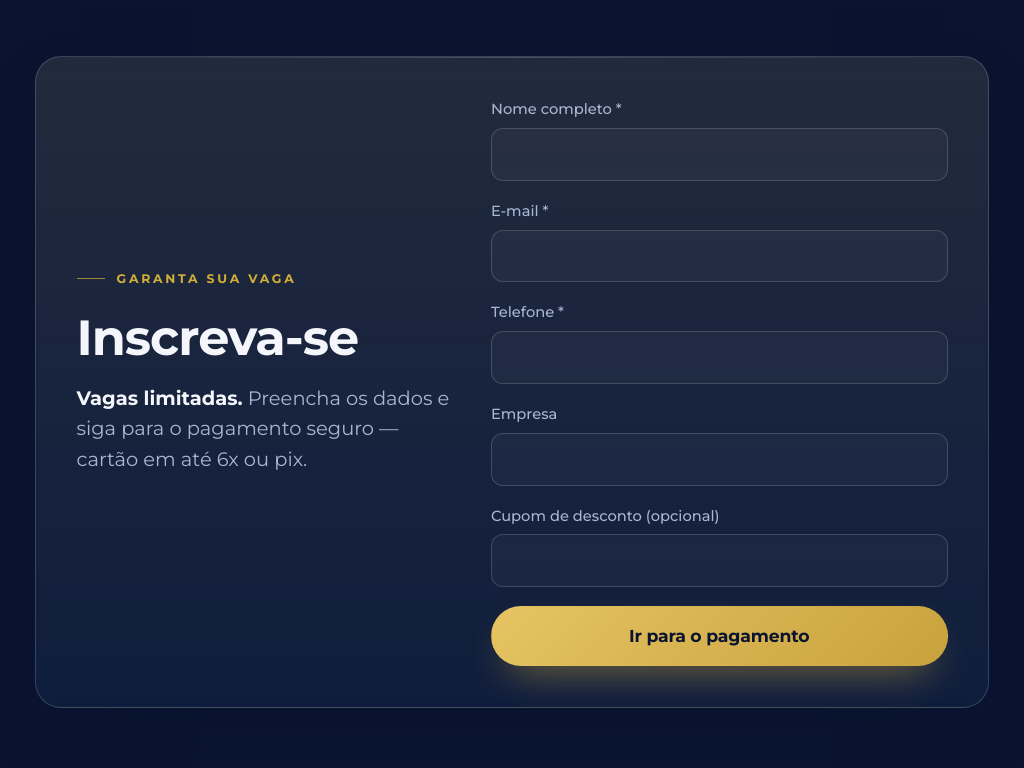
Scenario: RegistrationForm › validation messages + retained values (Req 10.3) › flags an invalid email while other fields are valid
Type "Maria Silva" into the field labelled "Nome completo *". click: (719,154)
box: x1=491 y1=128 x2=948 y2=181
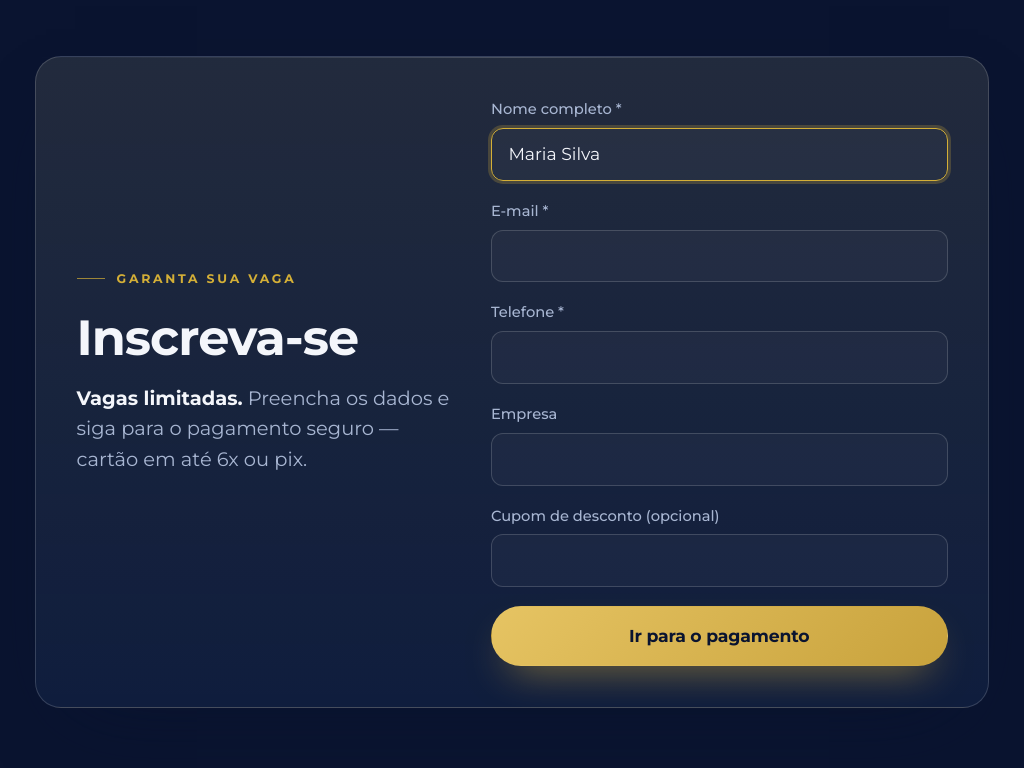
Type "not-an-email" into the field labelled "E-mail *". click: (719,256)
box: x1=491 y1=230 x2=948 y2=282
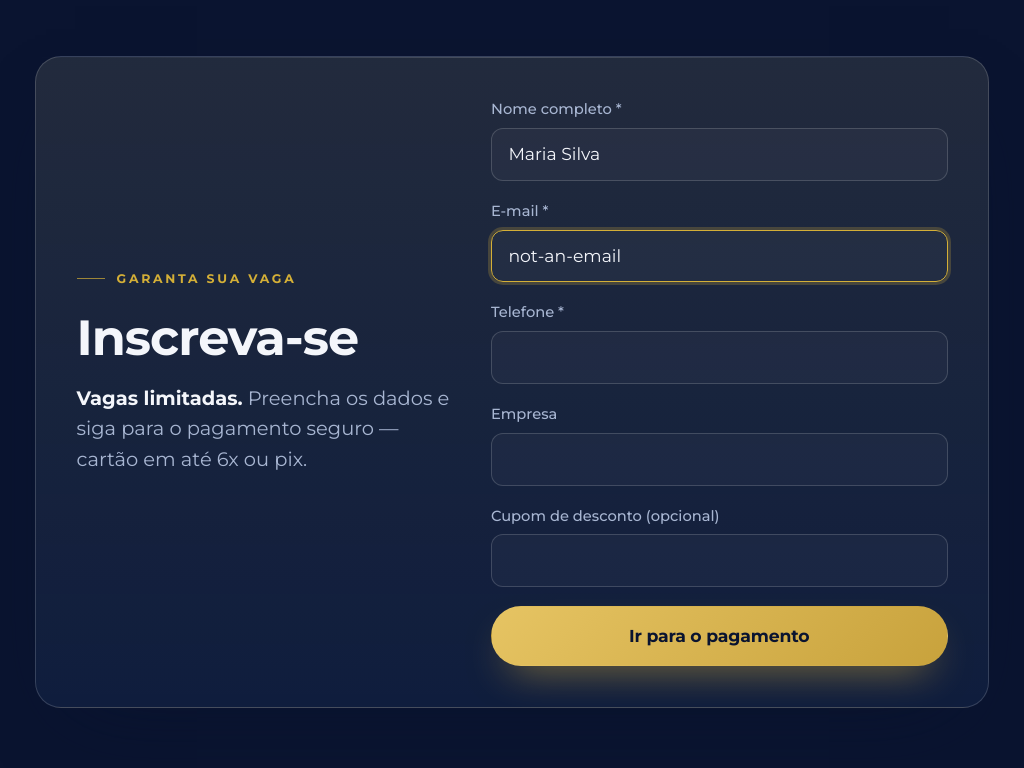
Type "47999998888" into the field labelled "Telefone *". click: (719,358)
box: x1=491 y1=331 x2=948 y2=384
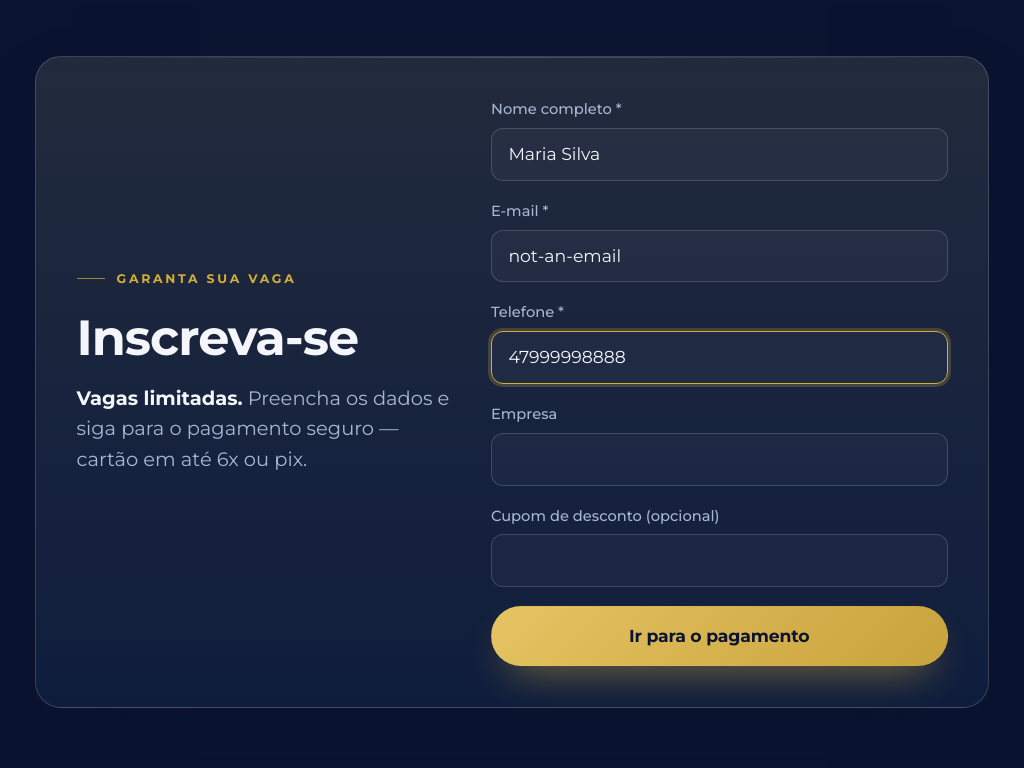
Click the button "Ir para o pagamento". click: (719,636)
box: x1=491 y1=606 x2=948 y2=666
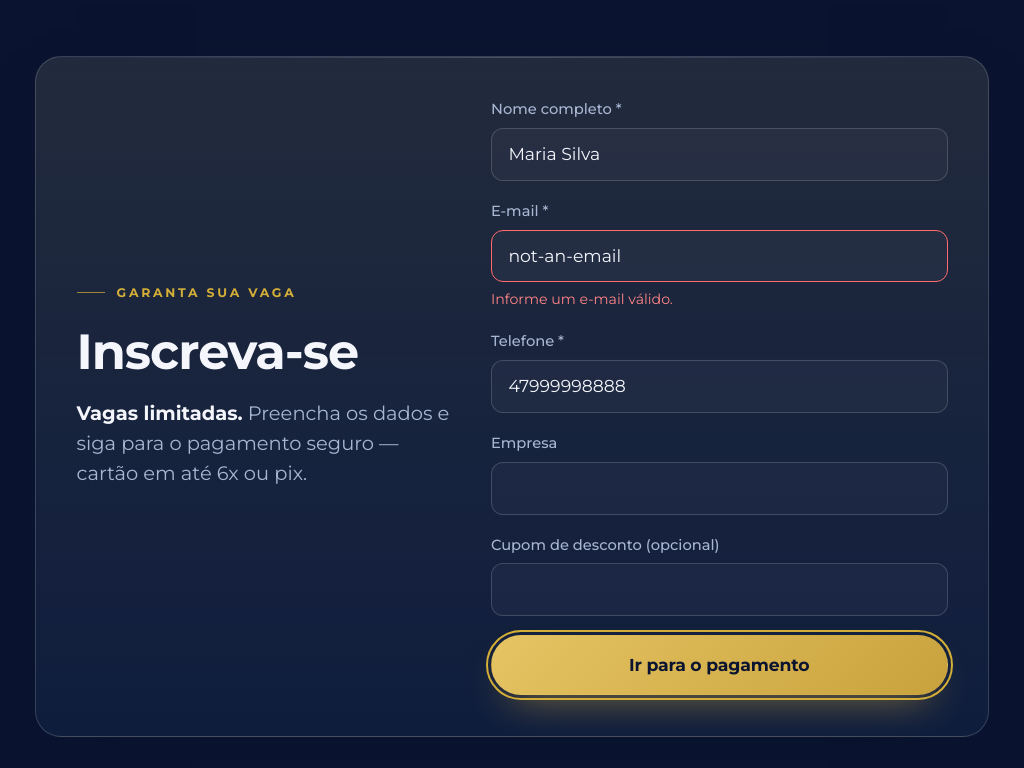
Expected: the text "Informe um e-mail válido." is shown, x1=491 y1=290 x2=673 y2=308
